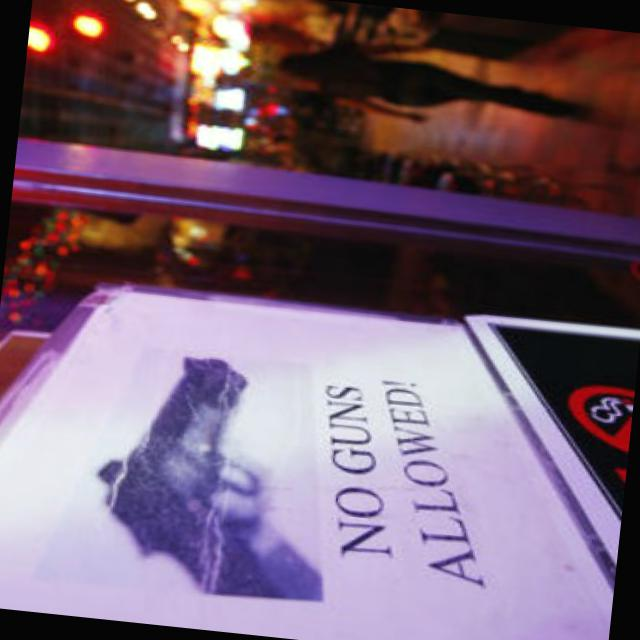handgun: (79, 350, 309, 606)
